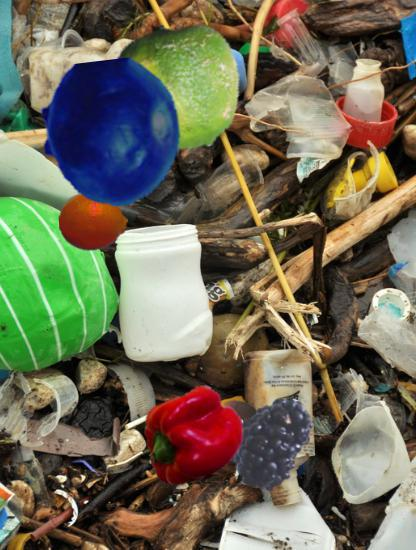Hazelnut: (215, 394, 276, 455)
Huckleberry: (38, 60, 185, 207)
Limes: (115, 23, 246, 154)
Mulberry: (224, 395, 320, 491)
Pepper: (143, 385, 245, 487)
Tangelo: (59, 187, 129, 257)
